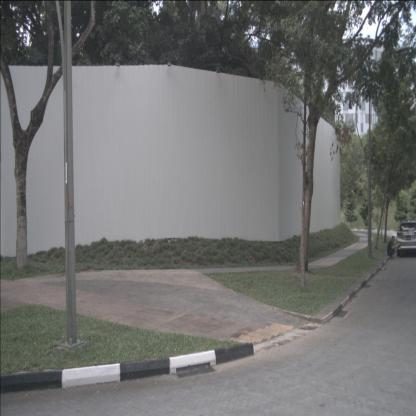human-pedestrian-adult: (387, 236, 398, 258)
vehicle-car: (396, 221, 415, 257)
